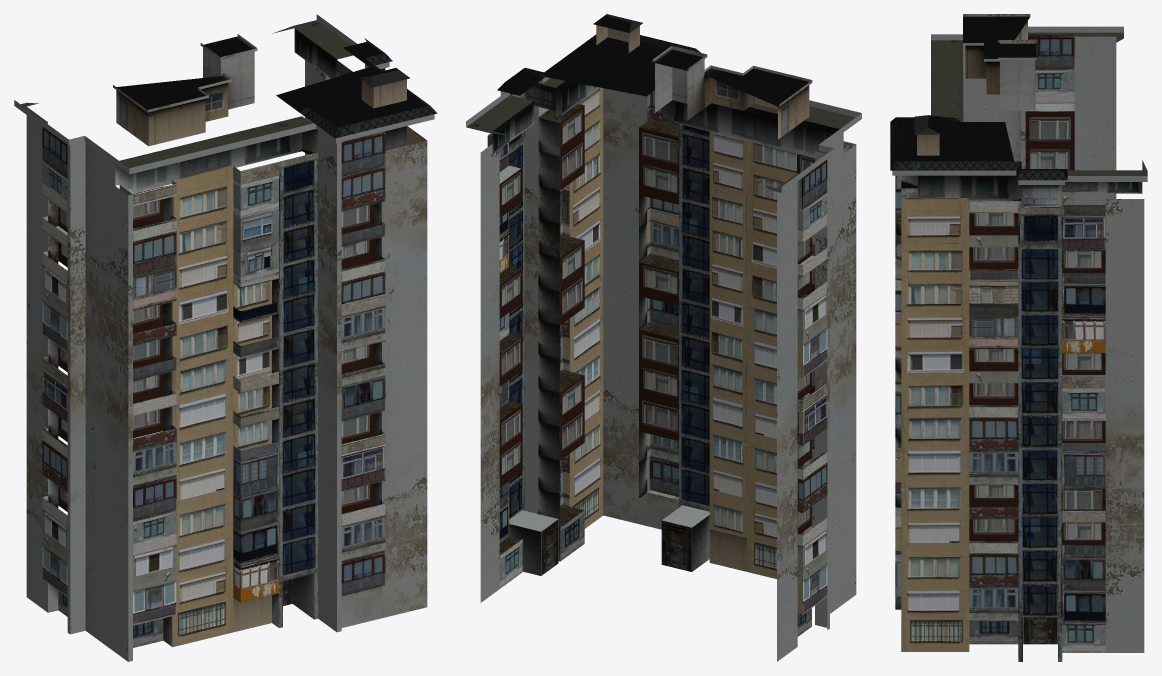
File: Ruin_Apartment_01.fbx
3 renders of one model, left to right at view 1: azimuth 30°, elevation 25°; view 2: azimuth 150°, elevation 25°; view 3: azimuth 270°, elevation 25°, orthographic. The views are drawn at different scales.
Visible parts, largest first — view 1: Ruin_Apartment_01_Part0_project_building01; view 2: Ruin_Apartment_01_Part0_project_building01; view 3: Ruin_Apartment_01_Part0_project_building01.
Part boxes in pixels (x1,y1,x2,y2): Ruin_Apartment_01_Part0_project_building01: (14,14,437,661); Ruin_Apartment_01_Part0_project_building01: (466,14,861,661); Ruin_Apartment_01_Part0_project_building01: (890,14,1147,661).
Bounding box in the file's own units: 1.48 × 2.41 × 1.05.
